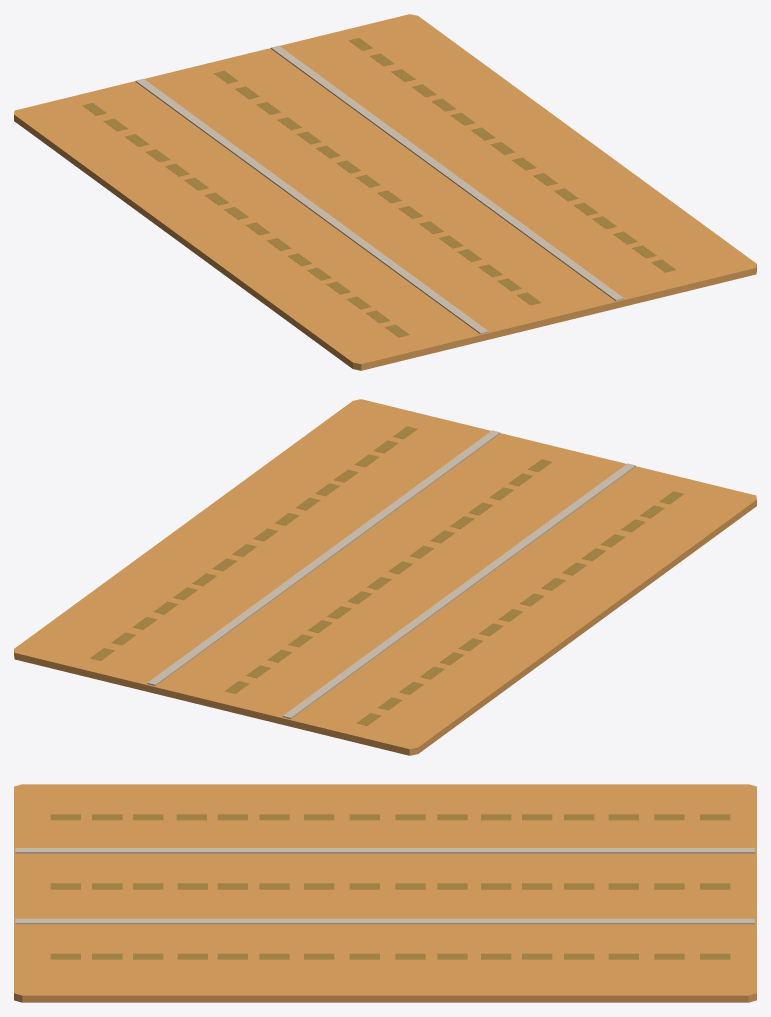
File: SandStreet.glb
3 renders of one model, top to bottom at view 1: azimuth 30°, elevation 25°; view 2: azimuth 150°, elevation 25°; view 3: azimuth 270°, elevation 25°, orthographic. The views are drawn at different scales.
Visible parts, largest first — view 1: SandStreet; view 2: SandStreet; view 3: SandStreet.
Boxes of the visible parts, <box> form: SandStreet: <box>14,14,756,370</box>; SandStreet: <box>14,399,756,755</box>; SandStreet: <box>14,784,756,1002</box>.
Size of the model in its own units: 19.64 by 0.3712 by 29.17.
